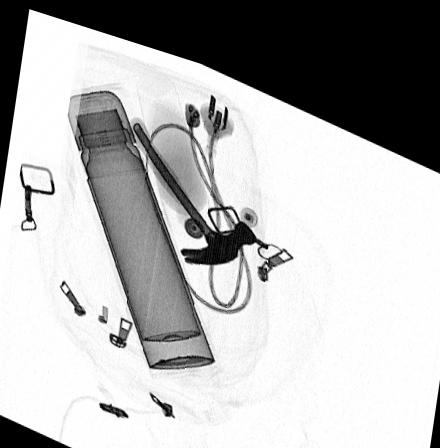Hammer: (126, 107, 258, 252)
